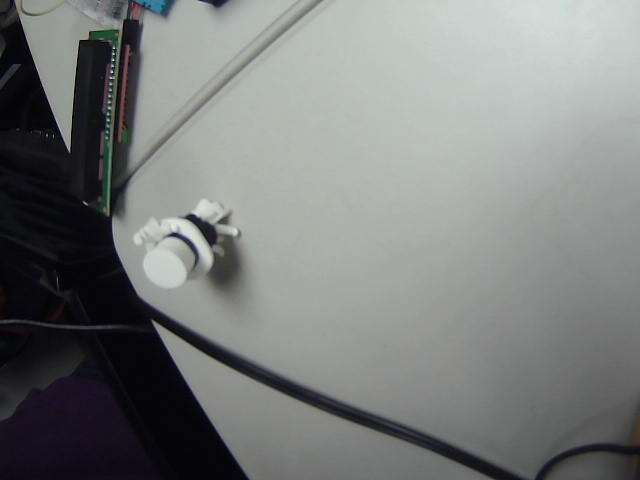lucci: (129, 191, 266, 314)
